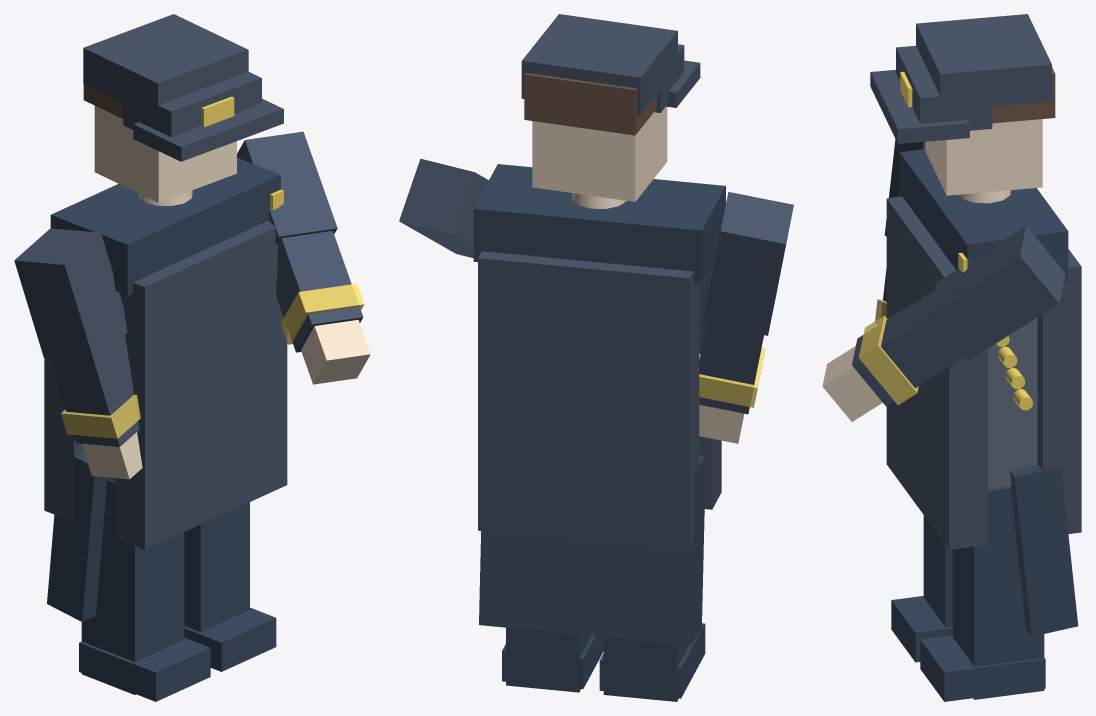
The model's file is jotaro.gltf.
3 renders of one model, left to right at view 1: azimuth 30°, elevation 25°; view 2: azimuth 150°, elevation 25°; view 3: azimuth 270°, elevation 25°, orthographic. The views are drawn at different scales.
Parts seen in each view (by area): view 1: torso, head, legs, arm_L, arm_R; view 2: torso, head, arm_L, legs, arm_R; view 3: torso, head, legs, arm_R, chain, arm_L.
Part boxes in pixels (x1,y1,x2,y2): torso: (44,158,287,621); head: (83,14,283,205); legs: (79,479,276,701); arm_L: (14,228,142,479); arm_R: (237,131,370,384); torso: (473,164,725,645); head: (521,14,700,208); arm_L: (699,192,793,443); legs: (502,541,705,701); arm_R: (399,158,488,258); torso: (886,149,1081,636); head: (870,14,1055,203); legs: (891,486,1045,701); arm_R: (822,226,1065,421); chain: (958,252,1032,410); arm_L: (875,139,925,321).
Bounding box in the file's own units: 92.32 × 167 × 63.6.
